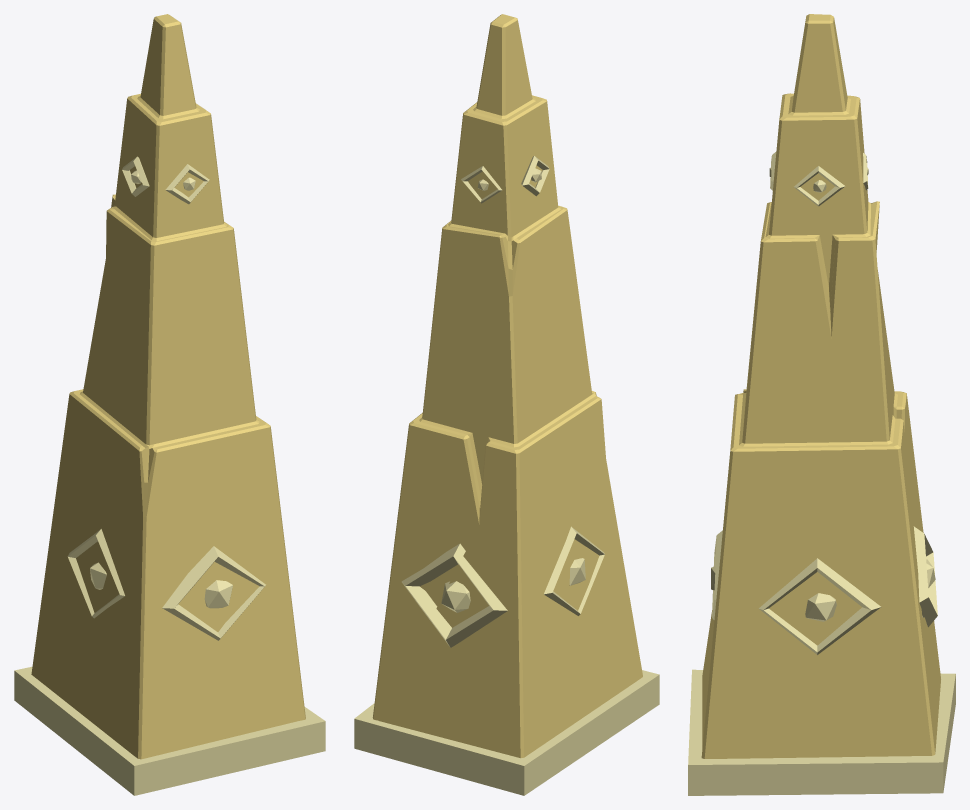
File: Desert_Structure_Tower.fbx
The picture shows the model from 3 angles, left to right: view 1: azimuth 30°, elevation 25°; view 2: azimuth 150°, elevation 25°; view 3: azimuth 270°, elevation 25°; orthographic projection. The views are drawn at different scales.
Parts seen in each view (by area): view 1: Desert Structure Tower; view 2: Desert Structure Tower; view 3: Desert Structure Tower.
Part boxes in pixels (x1,y1,x2,y2): Desert Structure Tower: [14, 14, 325, 795]; Desert Structure Tower: [354, 14, 659, 795]; Desert Structure Tower: [688, 14, 955, 795].
Size of the model in its own units: 1229 by 4392 by 1459.
